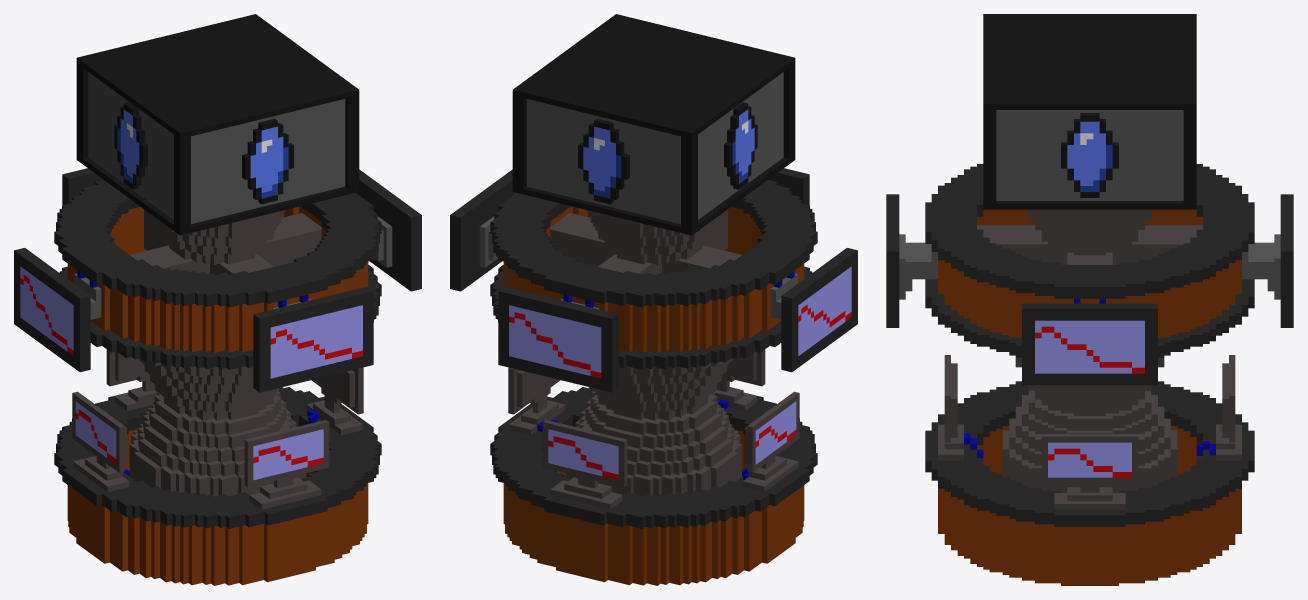
Rendered from CentroInfoNegativo.obj.
3 renders of one model, left to right at view 1: azimuth 30°, elevation 25°; view 2: azimuth 150°, elevation 25°; view 3: azimuth 270°, elevation 25°, orthographic. The views are drawn at different scales.
Size of the model in its own units: 6.3 by 7.9 by 6.3.
Materials: 1 (1 with a texture image).
